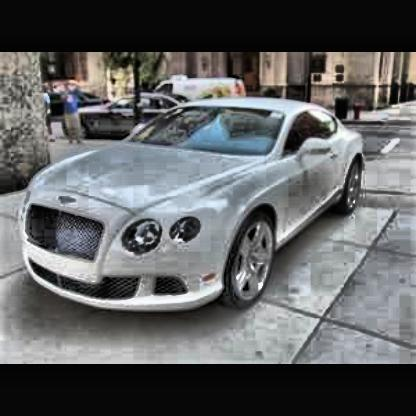Bentley Continental GT Coupe 2012: (21, 97, 366, 316)
